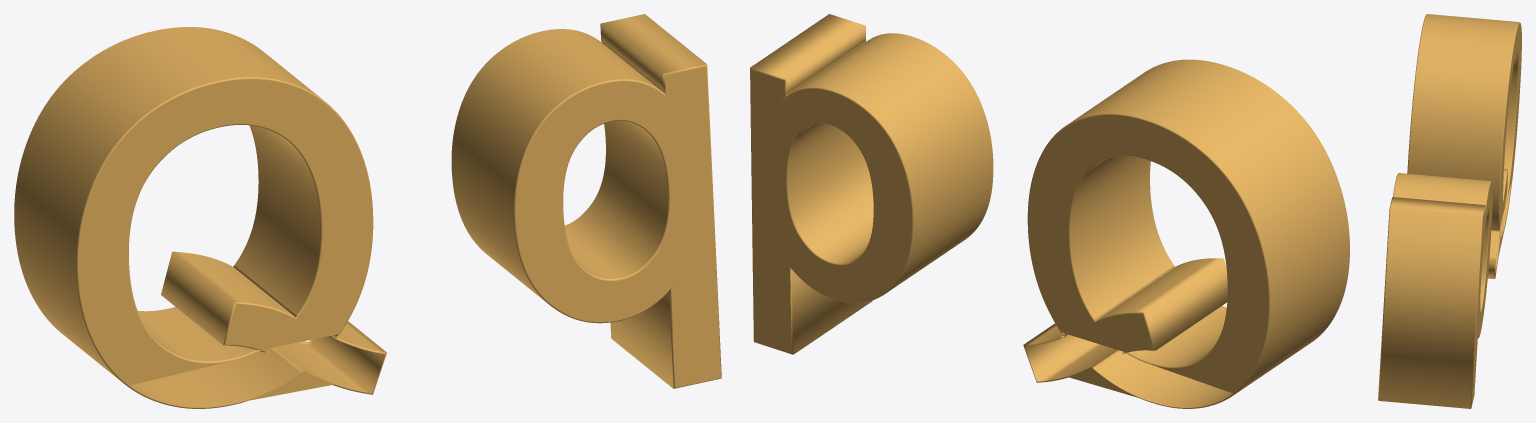
File: ObjectQ.fbx
3 renders of one model, left to right at view 1: azimuth 30°, elevation 25°; view 2: azimuth 150°, elevation 25°; view 3: azimuth 270°, elevation 25°, orthographic. The views are drawn at different scales.
Parts seen in each view (by area): view 1: Text; view 2: Text; view 3: Text.
Boxes of the visible parts, x1,y1,x2,y2 form: Text: (14,14,721,408); Text: (750,14,1349,408); Text: (1378,14,1521,408).
Size of the model in its own units: 287 by 174 by 93.91.
